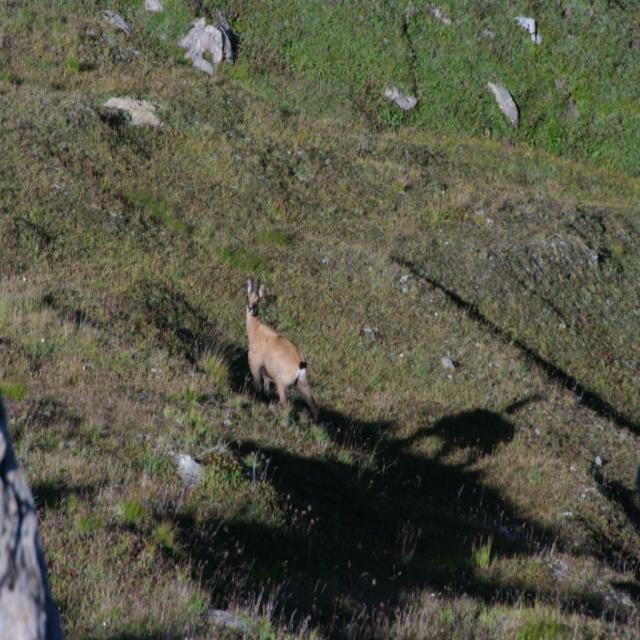Goat: (247, 280, 316, 408)
